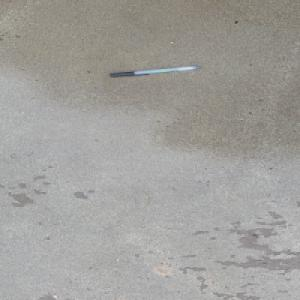Pen: (108, 64, 201, 77)
